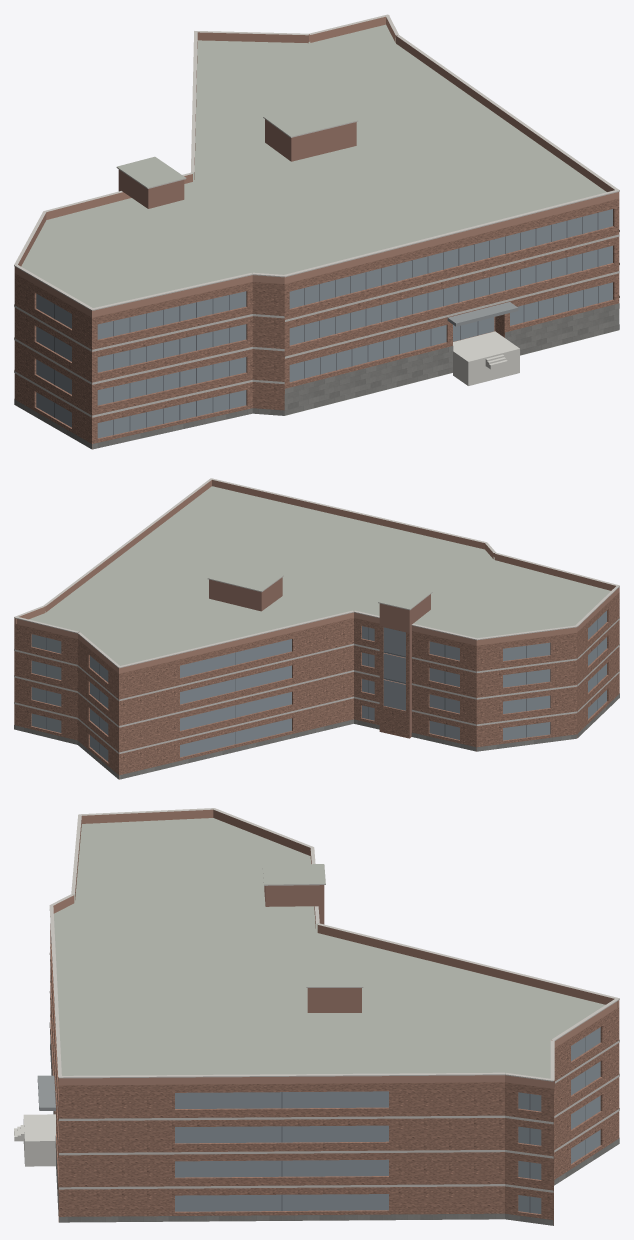
3 renders of one model, top to bottom at view 1: azimuth 30°, elevation 25°; view 2: azimuth 150°, elevation 25°; view 3: azimuth 270°, elevation 25°, orthographic. The views are drawn at different scales.
Visible parts, largest first — view 1: basicEducation__roof, basicEducation__wall, basicEducation__glass, basicEducation__base, basicEducation__parapet, basicEducation__trim, basicEducation__wall2, basicEducation__entranceStair, basicEducation__frame, basicEducation__canopy; view 2: basicEducation__roof, basicEducation__wall, basicEducation__glass, basicEducation__parapet, basicEducation__trim, basicEducation__base, basicEducation__wall2, basicEducation__frame; view 3: basicEducation__roof, basicEducation__wall, basicEducation__glass, basicEducation__trim, basicEducation__parapet, basicEducation__base, basicEducation__wall2, basicEducation__entranceStair, basicEducation__canopy.
Part boxes in pixels (x1,y1,x2,y2): basicEducation__roof: (21,24,618,415); basicEducation__wall: (14,198,619,448); basicEducation__glass: (36,209,612,438); basicEducation__base: (14,303,619,449); basicEducation__parapet: (14,16,619,317); basicEducation__trim: (14,14,619,417); basicEducation__wall2: (118,119,356,208); basicEducation__entranceStair: (453,331,519,385); basicEducation__frame: (54,213,598,435); basicEducation__canopy: (447,302,518,326); basicEducation__roof: (29,486,610,665); basicEducation__wall: (14,592,619,779); basicEducation__glass: (31,611,606,761); basicEducation__parapet: (14,480,619,673); basicEducation__trim: (14,478,619,753); basicEducation__base: (14,693,619,779); basicEducation__wall2: (209,577,430,737); basicEducation__frame: (46,620,597,754); basicEducation__roof: (54,818,605,1222); basicEducation__wall: (50,924,619,1225); basicEducation__glass: (175,1027,600,1213); basicEducation__trim: (49,808,619,1192); basicEducation__parapet: (53,809,619,1088); basicEducation__base: (49,1022,619,1225); basicEducation__wall2: (264,885,361,1012); basicEducation__entranceStair: (14,1114,55,1166); basicEducation__canopy: (37,1075,55,1110).
Bounding box in the file's own units: 61.57 × 17.97 × 57.79.
Materials: 11 (2 with a texture image).
